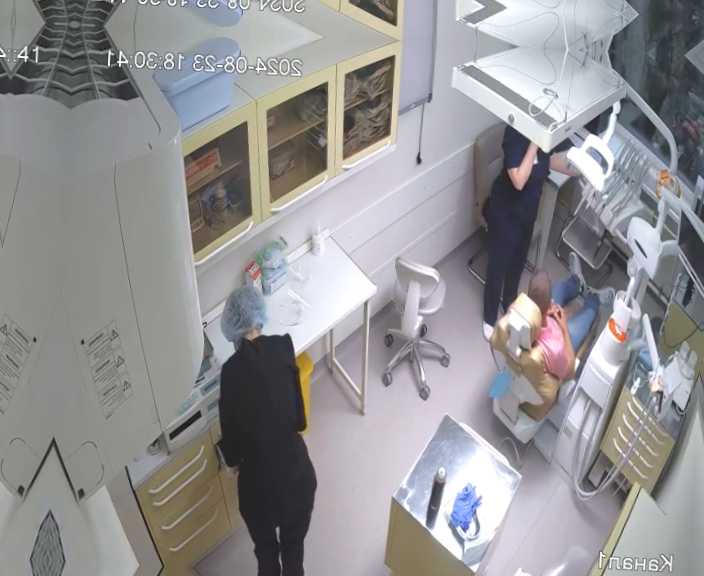Patient: (481, 272, 618, 433)
